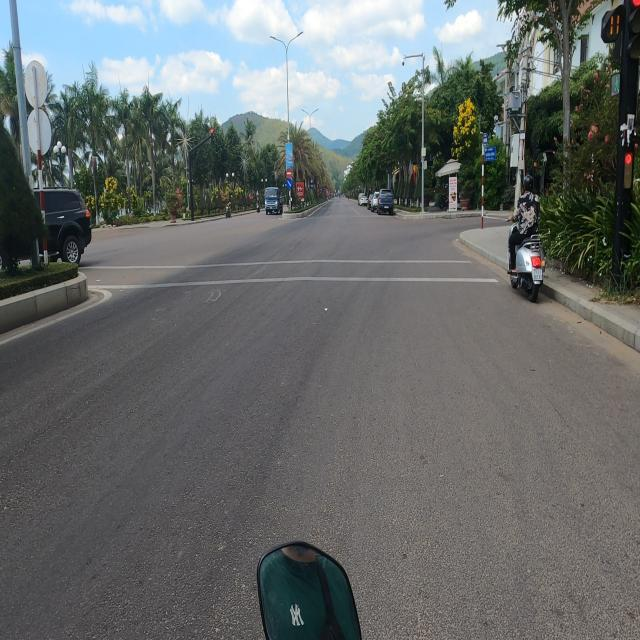walk-crossing: (116, 250, 506, 280)
